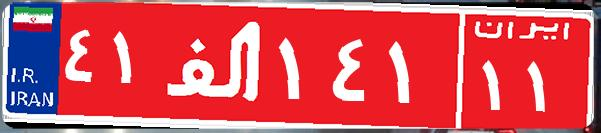1: (385, 28, 445, 110), (273, 28, 330, 110), (475, 38, 525, 113), (110, 28, 158, 105), (525, 38, 570, 115)
4: (330, 28, 385, 110), (57, 26, 110, 107)
الف: (158, 15, 273, 115)
